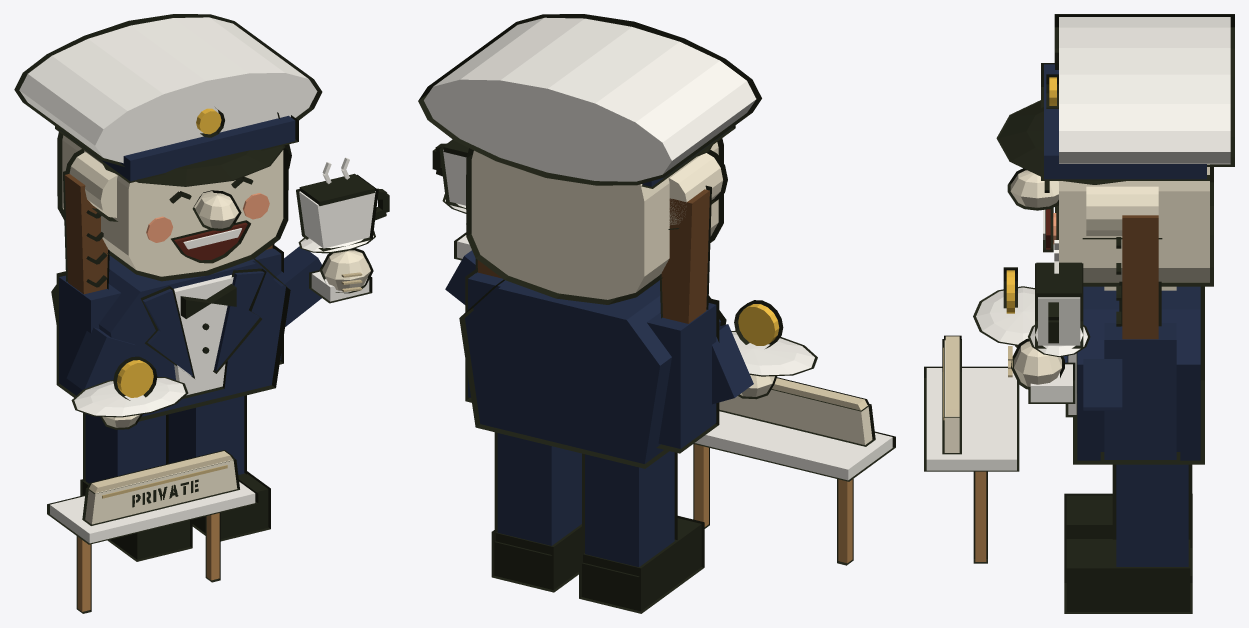
3 views of the same model, side by side, from view 1: azimuth 30°, elevation 25°; view 2: azimuth 150°, elevation 25°; view 3: azimuth 270°, elevation 25° (orthographic). The views are drawn at different scales.
Visible parts, largest first — view 1: Link Marine; view 2: Link Marine; view 3: Link Marine.
Boxes of the visible parts, x1,y1,x2,y2 form: Link Marine: (14, 14, 389, 613); Link Marine: (418, 14, 895, 613); Link Marine: (924, 14, 1234, 613).
Bounding box in the file's own units: 0.7725 × 0.9752 × 0.5155.
